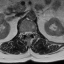CCS_normal: (27, 29, 29, 39)
LFS_normal: (32, 29, 34, 36)
LLS_normal: (29, 29, 32, 36)
RFS_normal: (22, 29, 25, 37)
RLS_normal: (25, 29, 27, 37)
